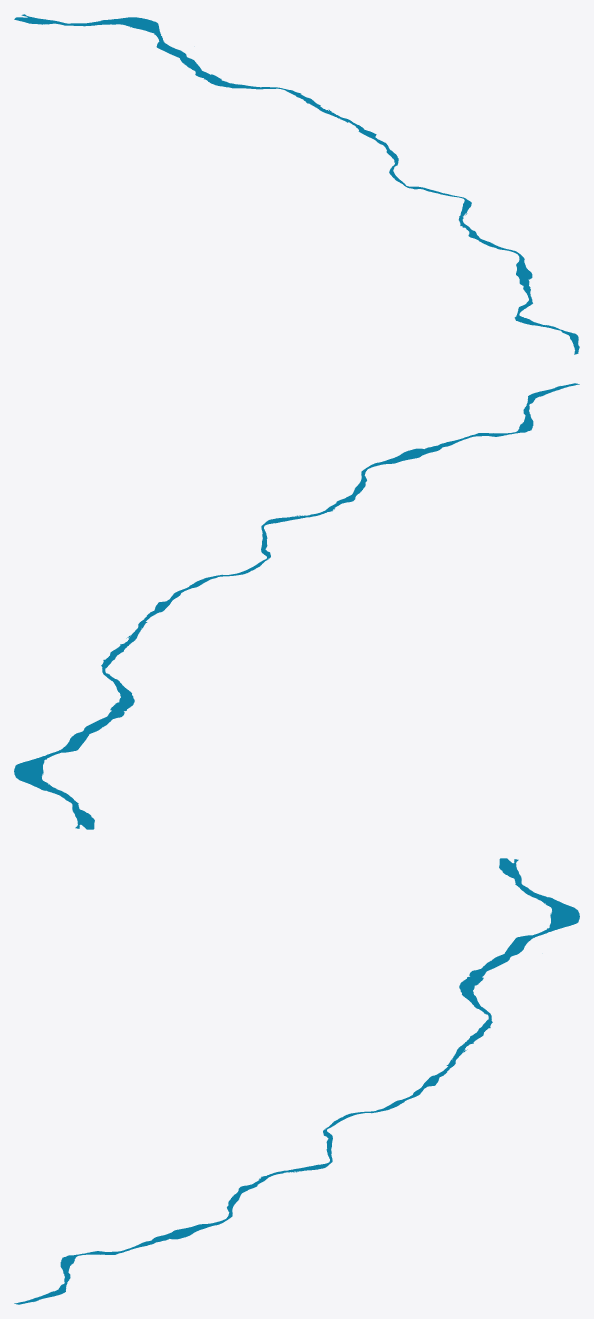
File: water.glb
3 views of the same model, one above another, from view 1: azimuth 30°, elevation 25°; view 2: azimuth 150°, elevation 25°; view 3: azimuth 330°, elevation 25° (orthographic). The views are drawn at different scales.
Parts seen in each view (by area): view 1: water; view 2: water; view 3: water.
Boxes of the visible parts, x1,y1,x2,y2 form: water: (14,14,579,354); water: (14,383,579,829); water: (14,858,579,1304).
Size of the model in its own units: 17026 by 11.25 by 92123.
